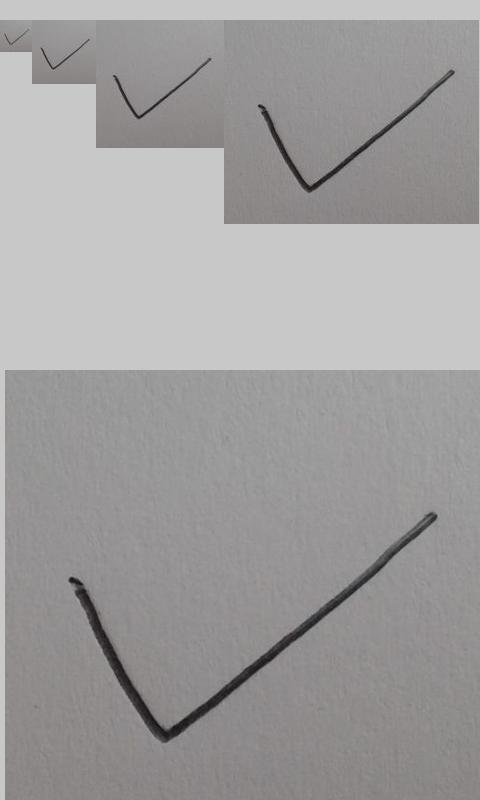check_box: (69, 512, 434, 742), (259, 70, 454, 193), (113, 58, 212, 119), (40, 39, 90, 70), (4, 28, 29, 46)
